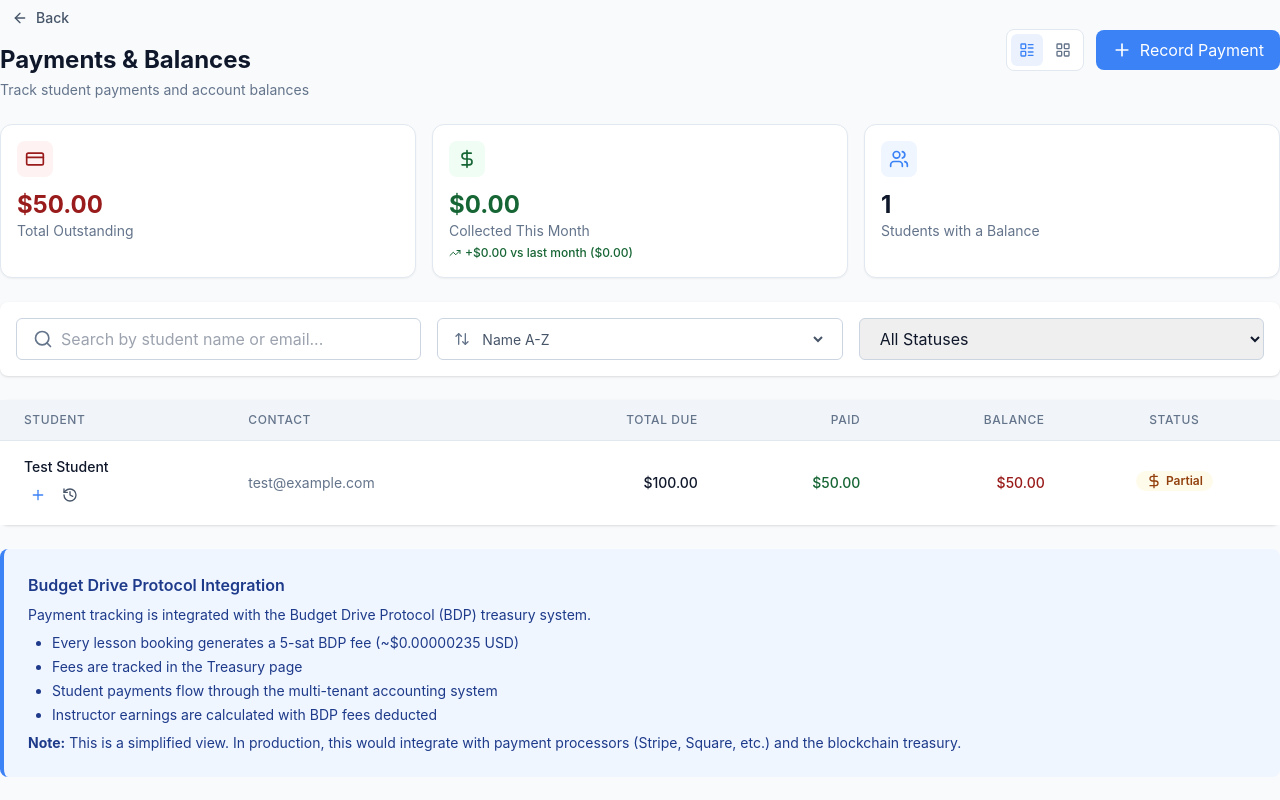
Scenario: Payments page - row click opens the existing history detail (item 1) › clicking a table row opens PaymentHistoryModal, without a second detail surface
Click the text "Test Student" at point(66, 466), box x1=0 y1=440 x2=1279 y2=525
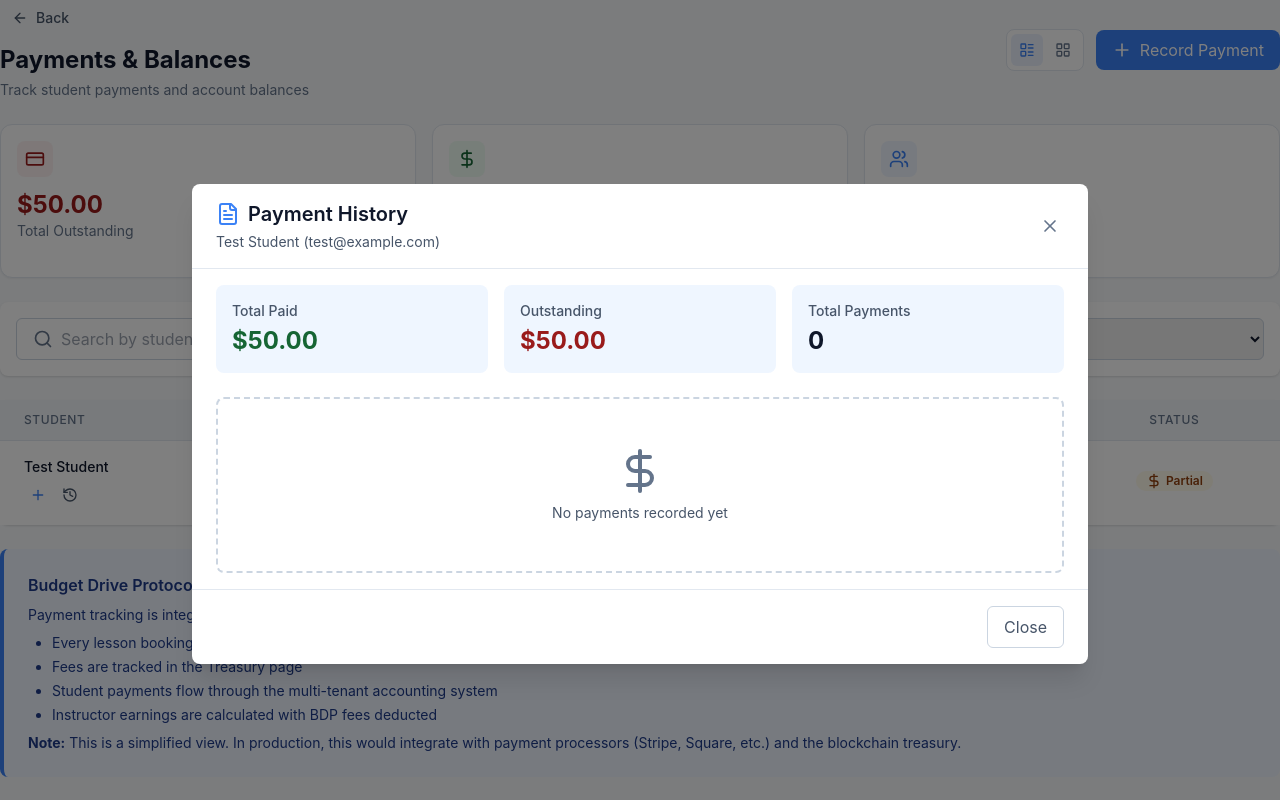
Check: the heading "Payment History" is shown, box x1=248 y1=200 x2=408 y2=228
